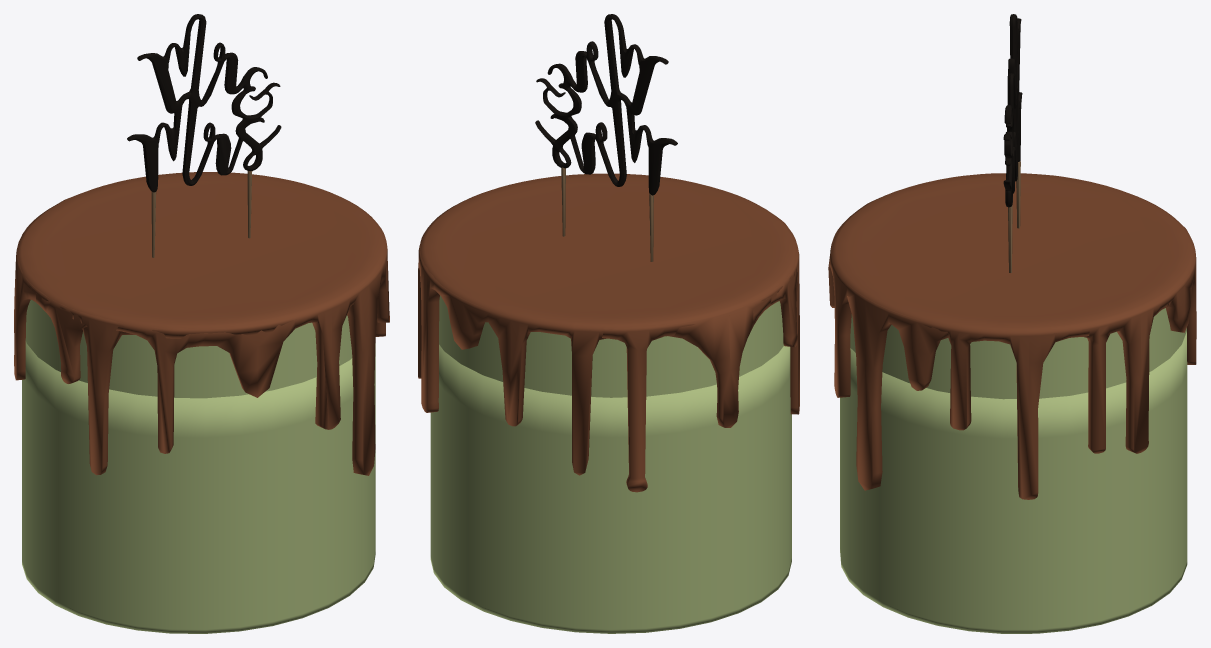
Rendered from 1-tier-pistage-ganache-mrms.glb.
The picture shows the model from 3 angles, left to right: view 1: azimuth 30°, elevation 25°; view 2: azimuth 150°, elevation 25°; view 3: azimuth 270°, elevation 25°; orthographic projection.
Parts seen in each view (by area): view 1: Cylinder.019, tHE ICING, mrms.001; view 2: Cylinder.019, tHE ICING, mrms.001; view 3: Cylinder.019, tHE ICING, mrms.001.
Boxes of the visible parts, x1=… form: Cylinder.019: x1=22, y1=300, x2=375, y2=633; tHE ICING: x1=14, y1=172, x2=389, y2=475; mrms.001: x1=127, y1=14, x2=281, y2=257; Cylinder.019: x1=430, y1=295, x2=791, y2=633; tHE ICING: x1=418, y1=173, x2=799, y2=492; mrms.001: x1=535, y1=14, x2=677, y2=261; Cylinder.019: x1=840, y1=308, x2=1187, y2=633; tHE ICING: x1=828, y1=173, x2=1196, y2=499; mrms.001: x1=1003, y1=14, x2=1022, y2=272.
Size of the model in its own units: 2.8 by 4.41 by 2.71.
